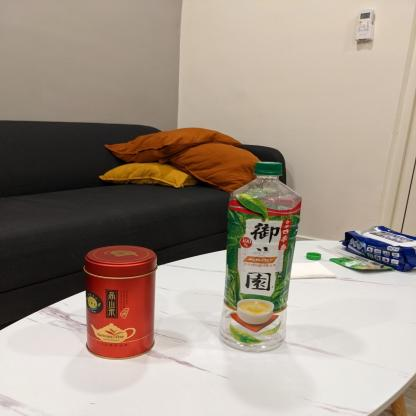Glass Bottle: (218, 162, 299, 352)
